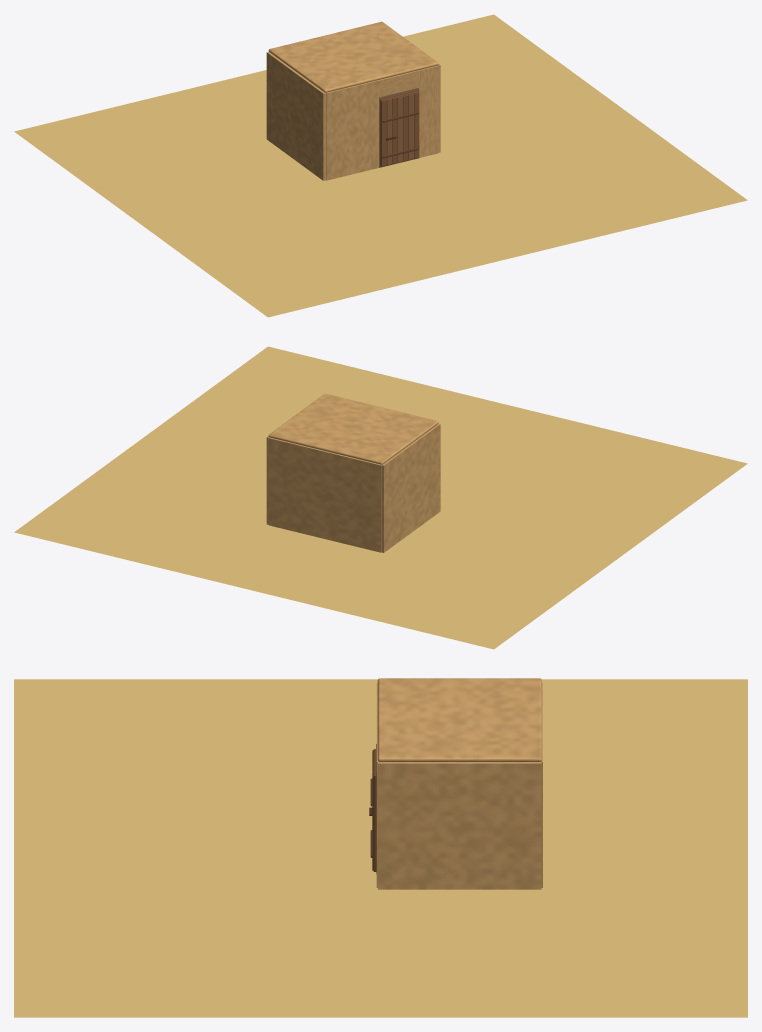
File: scetis-cell-interior.glb
The picture shows the model from 3 angles, top to bottom: view 1: azimuth 30°, elevation 25°; view 2: azimuth 150°, elevation 25°; view 3: azimuth 270°, elevation 25°; orthographic projection. The views are drawn at different scales.
Visible parts, largest first — view 1: ground, scetis-cell-interior, col:lateral-4.2, door:cell, col:fațadă-stânga, col:fațadă-dreapta, col:fațadă-sus; view 2: ground, scetis-cell-interior, col:lateral-4.2, col:spate; view 3: ground, scetis-cell-interior, col:lateral4.2, door:cell.
Part boxes in pixels (x1=…): ground: x1=14, y1=14, x2=747, y2=317; scetis-cell-interior: x1=268, y1=21, x2=439, y2=179; col:lateral-4.2: x1=266, y1=52, x2=327, y2=180; door:cell: x1=380, y1=90, x2=419, y2=167; col:fațadă-stânga: x1=326, y1=80, x2=380, y2=180; col:fațadă-dreapta: x1=417, y1=66, x2=438, y2=157; col:fațadă-sus: x1=379, y1=70, x2=417, y2=96; ground: x1=14, y1=346, x2=747, y2=649; scetis-cell-interior: x1=268, y1=393, x2=438, y2=551; col:lateral-4.2: x1=379, y1=424, x2=440, y2=552; col:spate: x1=269, y1=438, x2=381, y2=552; ground: x1=14, y1=679, x2=747, y2=1017; scetis-cell-interior: x1=376, y1=678, x2=541, y2=887; col:lateral4.2: x1=378, y1=762, x2=541, y2=889; door:cell: x1=369, y1=749, x2=376, y2=871.
Bounding box in the file's own units: 36 × 6.58 × 33.
10 materials, 1 textured.
